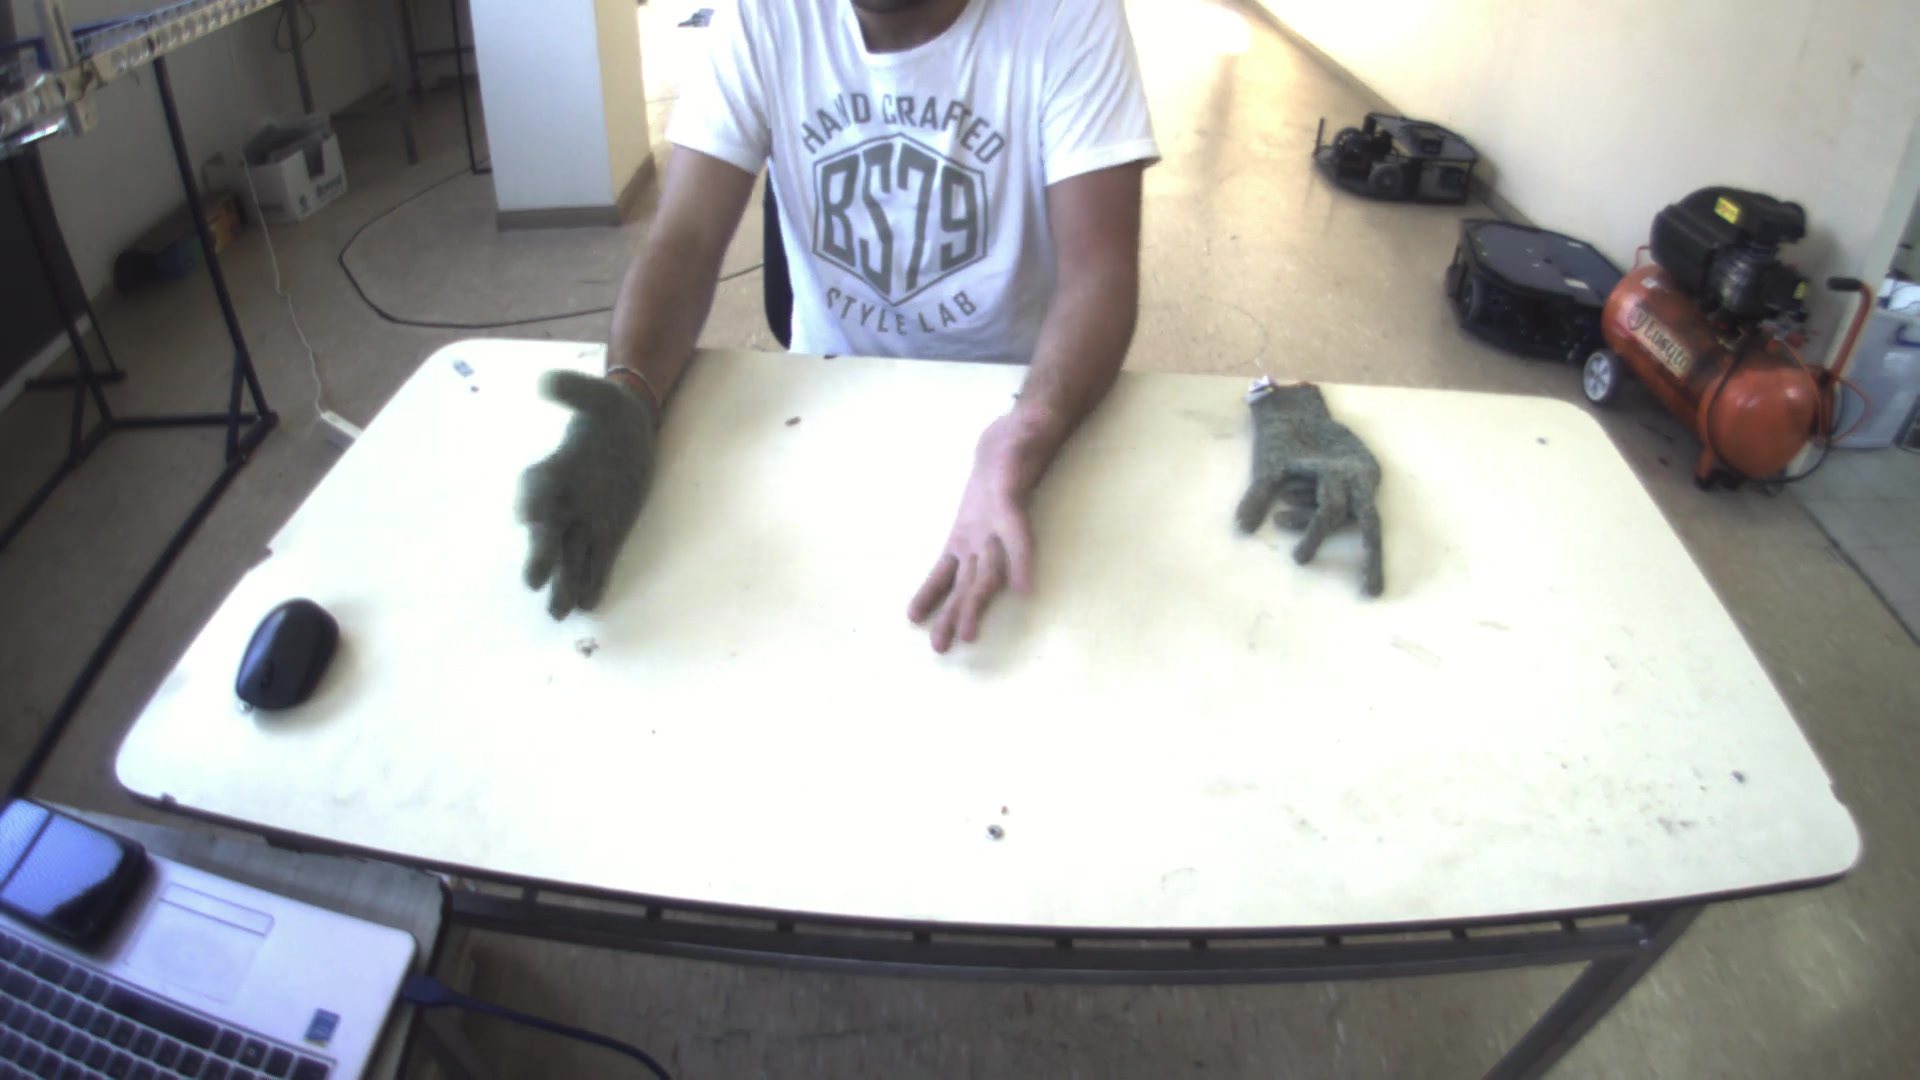hand: (897, 401, 1077, 661), (498, 349, 665, 622)
